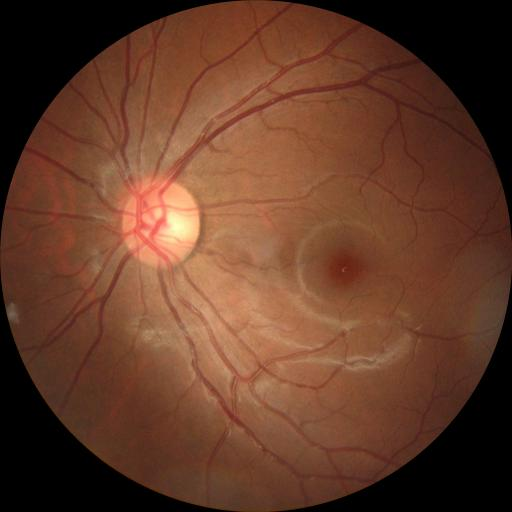Optic Cup: (156, 209, 194, 242)
Optic Disc: (122, 181, 200, 268)
